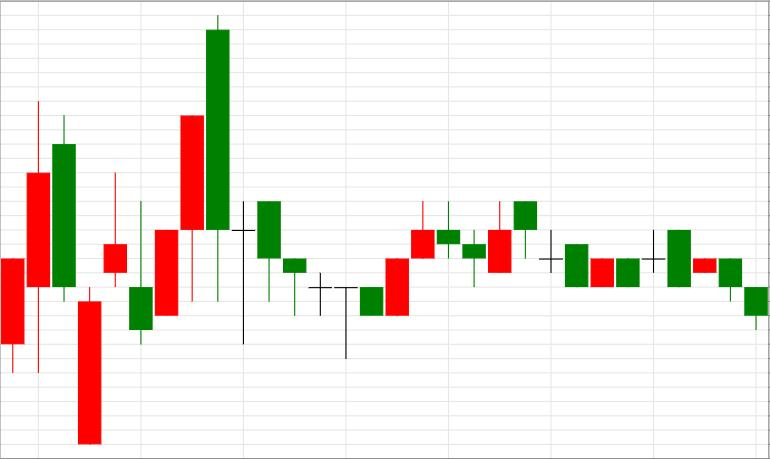bullish_engulfing_rise: (206, 14, 409, 359)
